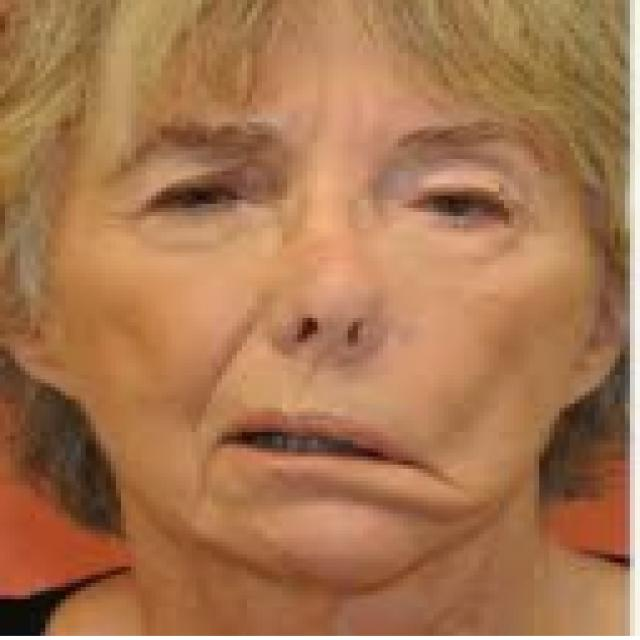stroke_face: (73, 23, 621, 572)
